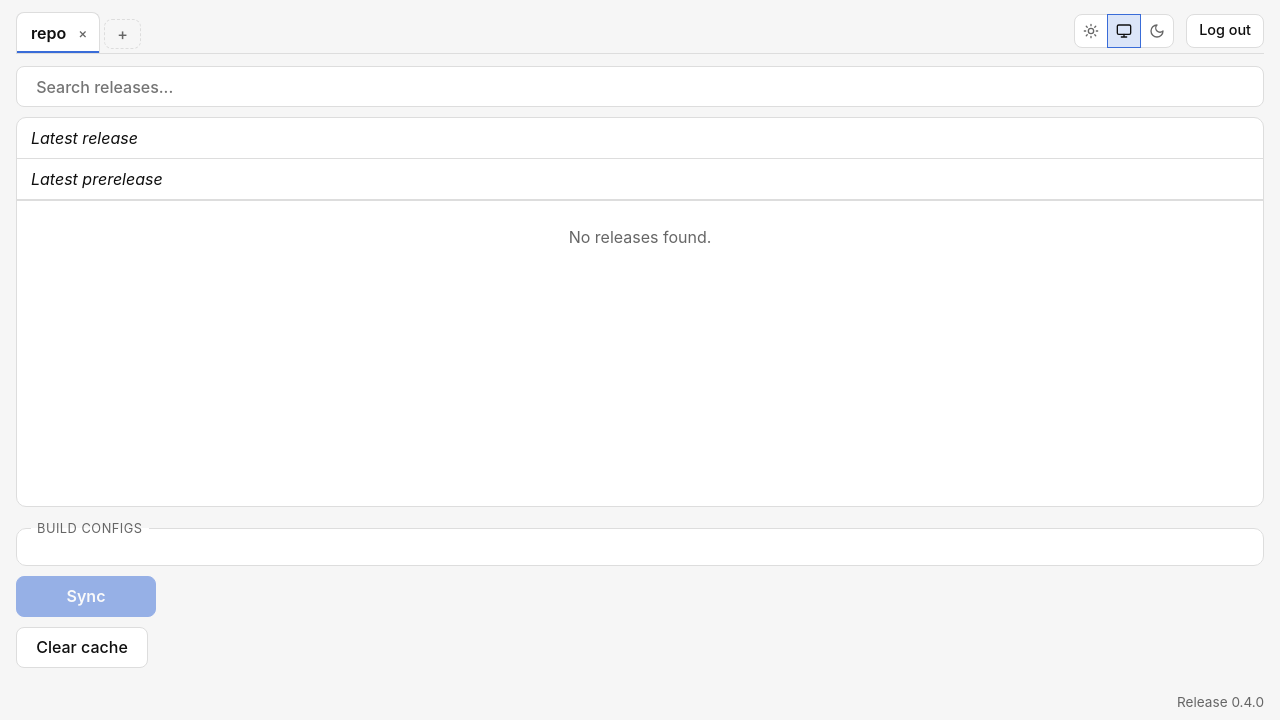
Test: App › closing a tab's x unbinds the project
This screenshot has width=1280, height=720.
What coordinates should you click on to do the following:
click the button named "Close repo"
I would click on:
 (83, 33)
Its box is [72,23,93,43].
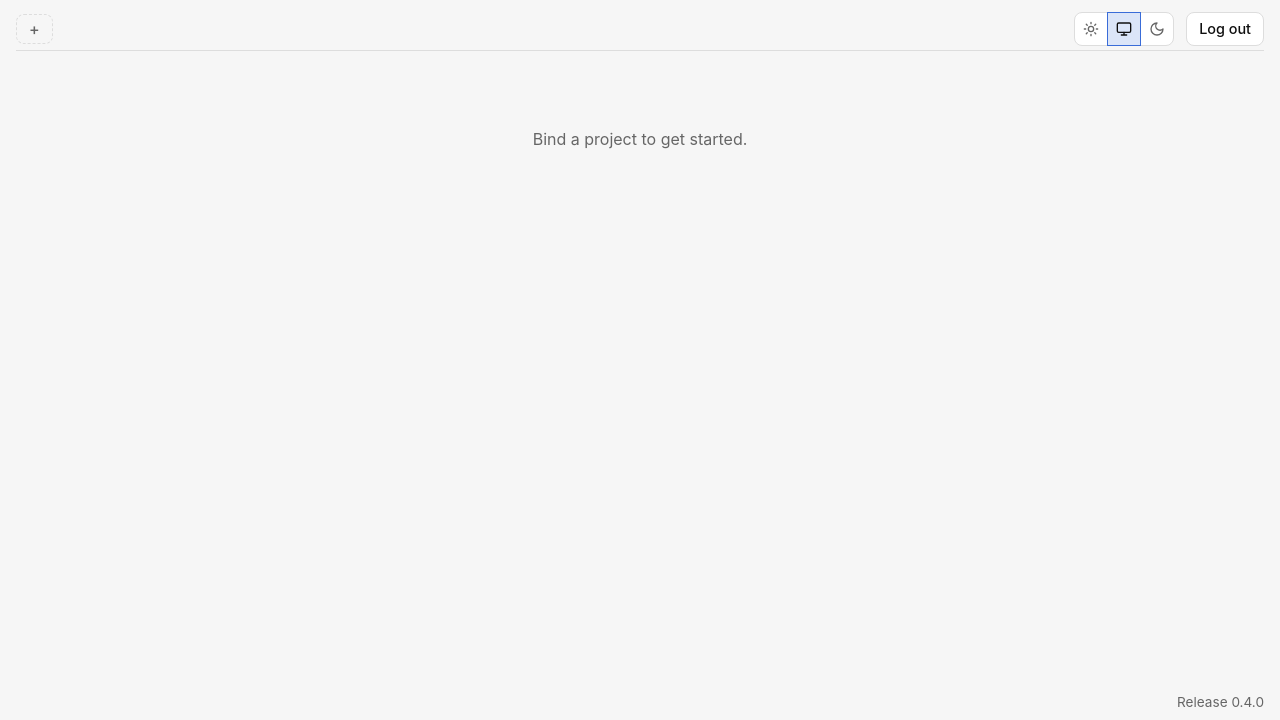
Expected: the tab is gone
